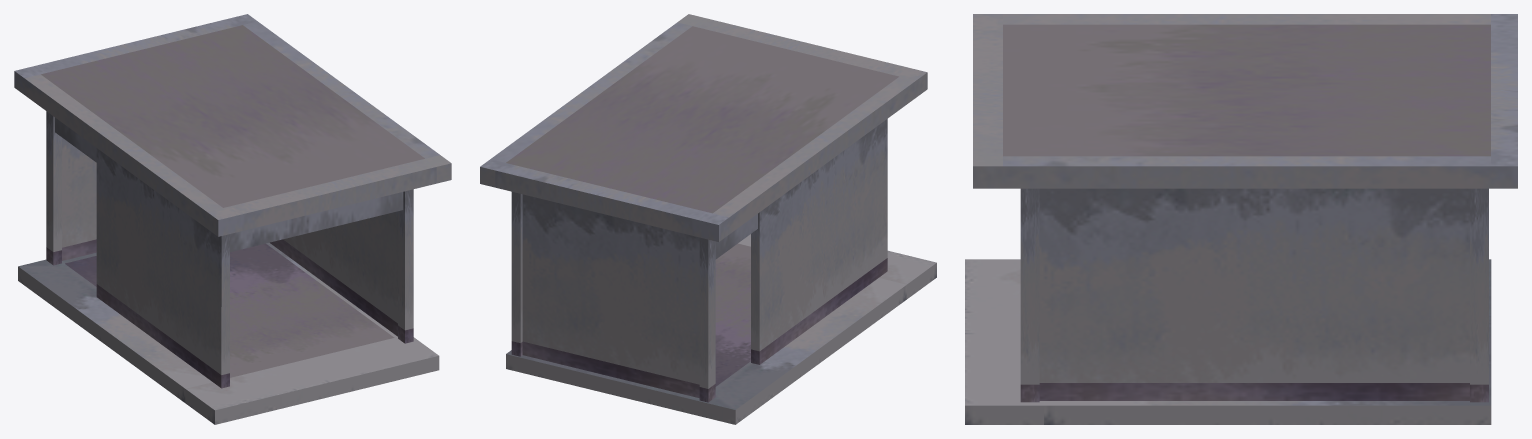
The model's file is JpHouse_Garage01al.fbx.
The picture shows the model from 3 angles, left to right: view 1: azimuth 30°, elevation 25°; view 2: azimuth 150°, elevation 25°; view 3: azimuth 270°, elevation 25°; orthographic projection. The views are drawn at different scales.
Visible parts, largest first — view 1: JpHouse_Garage01al; view 2: JpHouse_Garage01al; view 3: JpHouse_Garage01al.
Boxes of the visible parts, x1,y1,x2,y2 form: JpHouse_Garage01al: (14, 14, 451, 424); JpHouse_Garage01al: (480, 14, 936, 424); JpHouse_Garage01al: (965, 14, 1517, 424).
Size of the model in its own units: 4.76 by 3.82 by 7.11.
